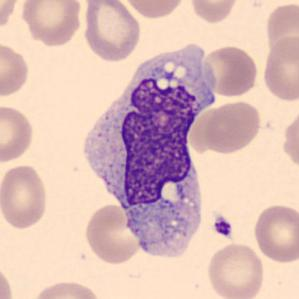Monocyte: (76, 36, 212, 246)
Platelets: (211, 215, 233, 239)
RBC: (94, 243, 188, 299), (80, 0, 143, 64), (82, 203, 141, 265), (204, 241, 266, 299), (200, 99, 262, 155), (0, 163, 50, 231), (201, 43, 259, 98), (18, 0, 84, 47), (251, 202, 298, 264), (260, 34, 298, 103), (0, 103, 36, 163), (264, 1, 298, 59), (0, 39, 32, 99), (28, 278, 103, 299), (120, 0, 188, 20), (188, 0, 240, 24), (0, 0, 21, 33), (0, 262, 15, 299)
